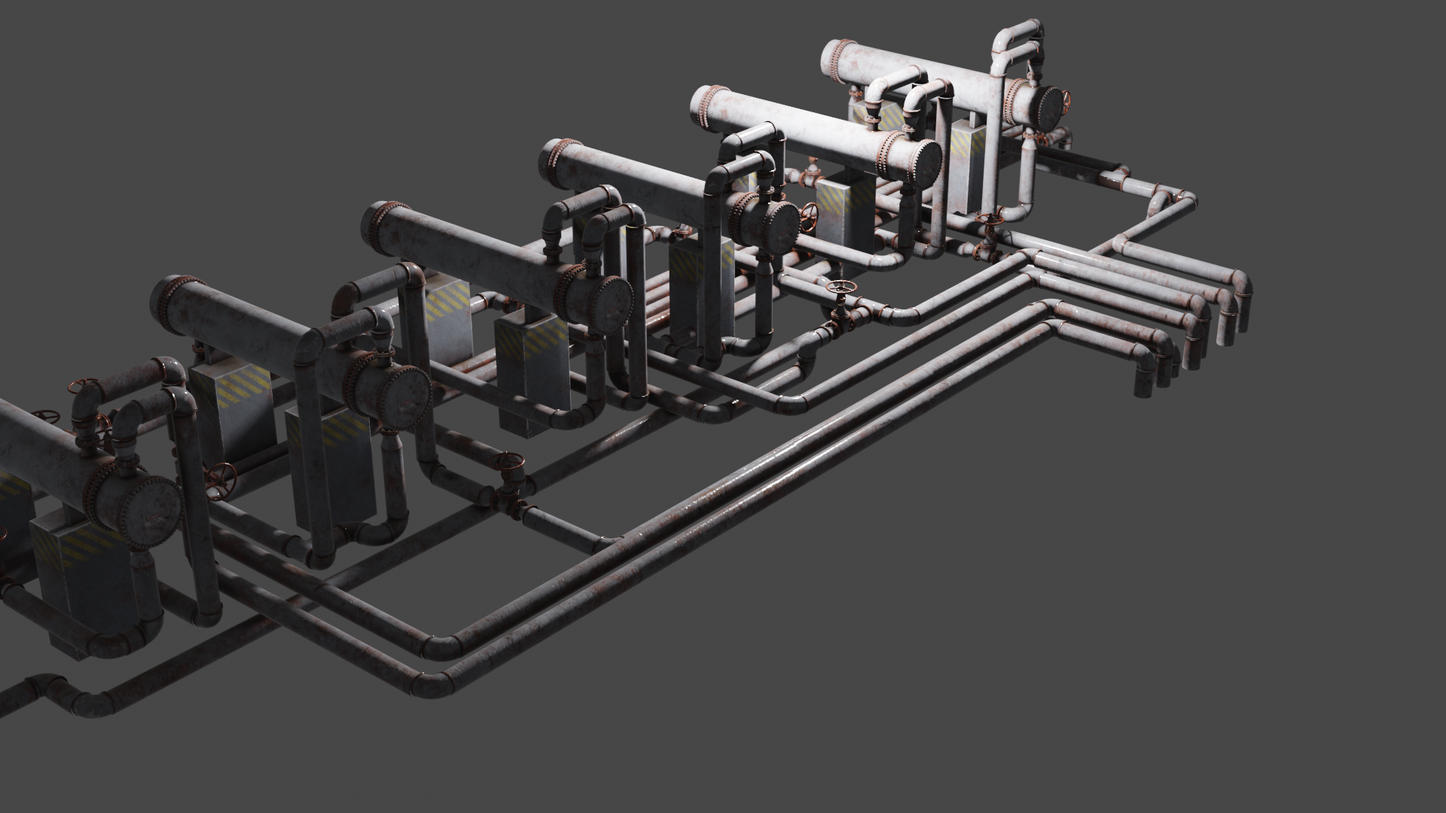HE_1: (0, 396, 182, 546)
HE_2: (143, 273, 441, 430)
HE_3: (358, 202, 635, 327)
HE_4: (532, 138, 800, 251)
HE_5: (688, 78, 945, 185)
HE_6: (817, 40, 1065, 131)
